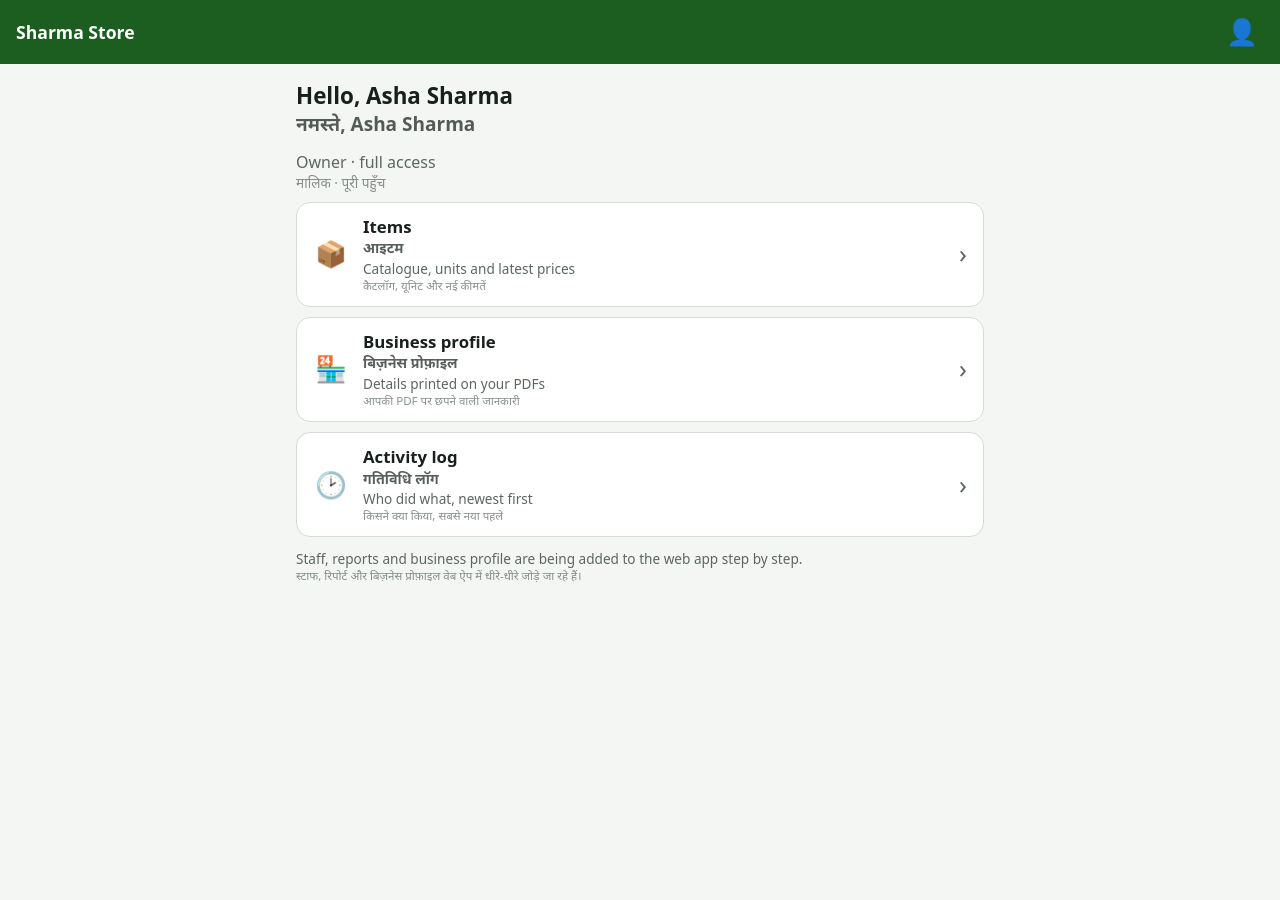
the app › changes the language order from the account page and signs out
The width and height of the screenshot is (1280, 900).
expect the text "Hello, Asha Sharma" is shown: met, box [296,80,513,111]
Click the link named "My account".
click(1242, 32)  # box [1226,14,1258,49]
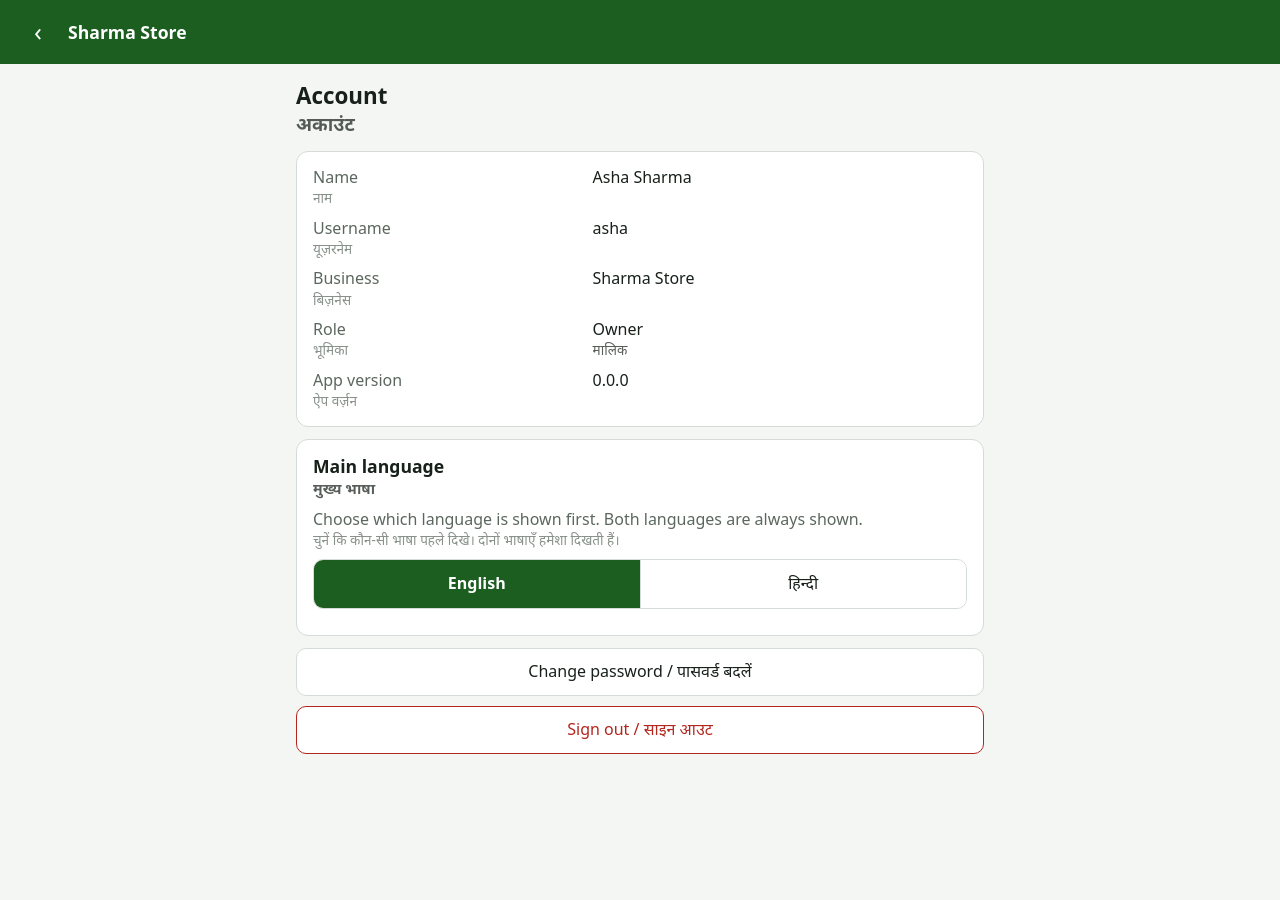
expect the heading "Account अकाउंट" is shown: met, box [296,80,388,137]
Click the button "हिन्दी".
click(803, 584)  # box [640,560,966,608]
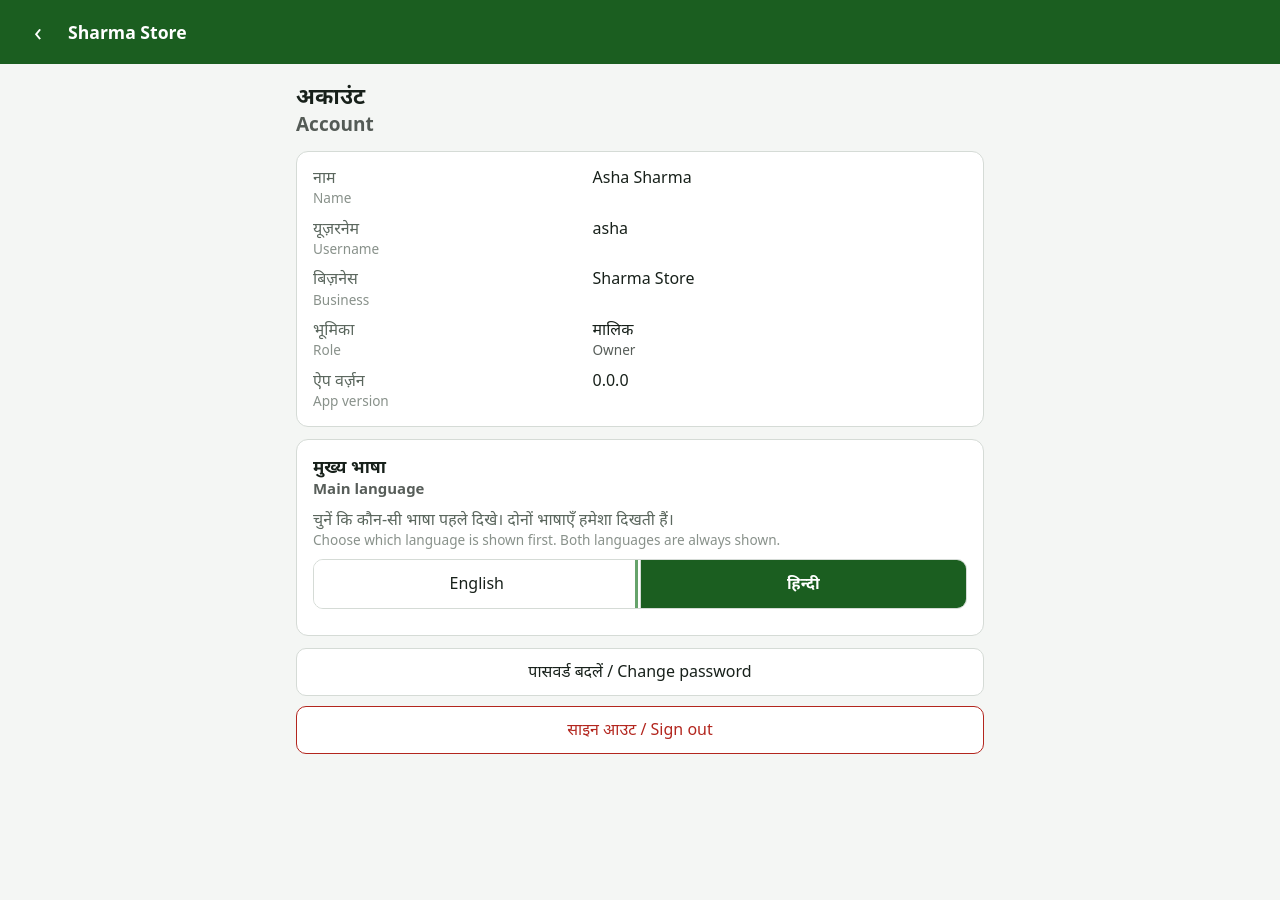
expect the text "अकाउंट" is shown: met, box [296,80,374,111]
expect the text "Account" is shown: met, box [296,111,374,138]
Click the button "साइन आउट / Sign out".
click(640, 730)  # box [296,706,984,754]
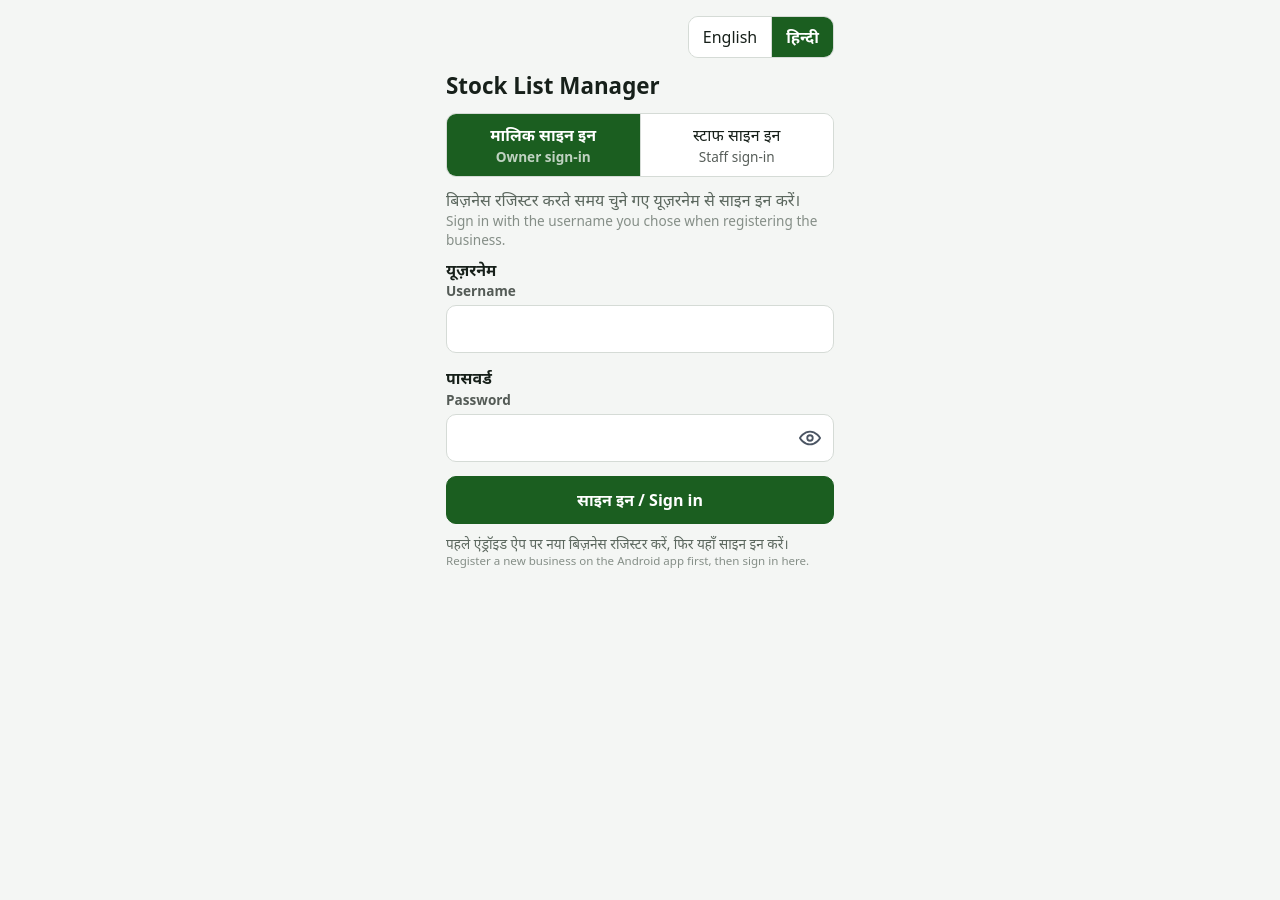
expect the button "साइन इन / Sign in" is shown: met, box [446,476,834,524]
